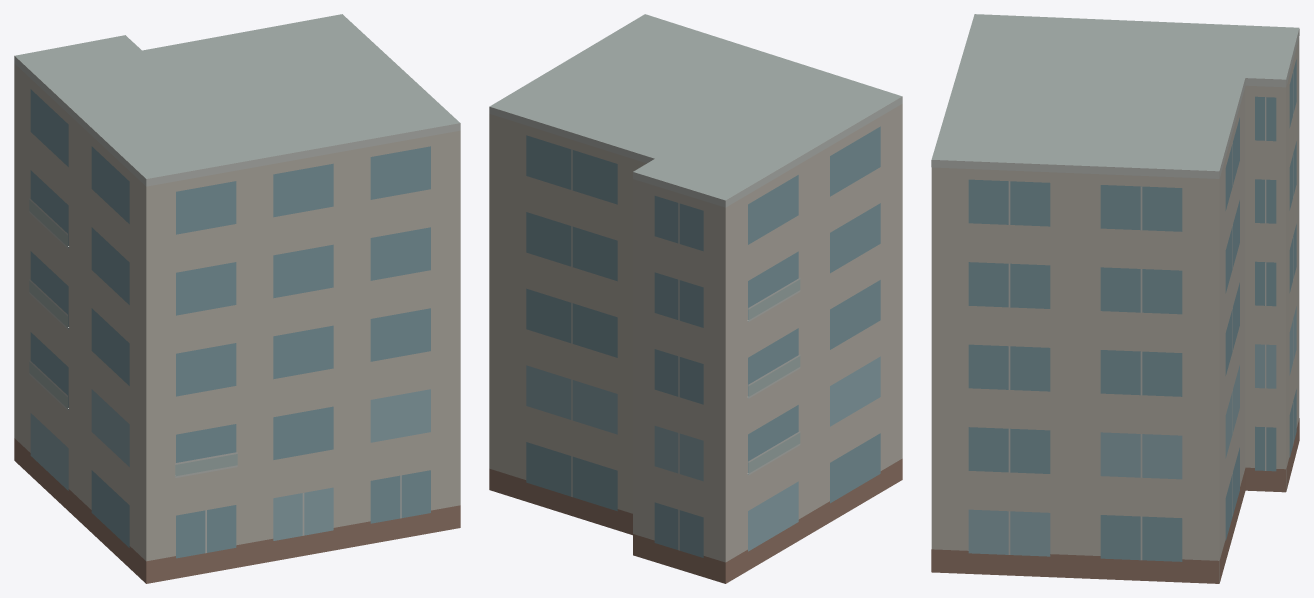
File: survey-upis-33032366.glb
3 views of the same model, side by side, from view 1: azimuth 30°, elevation 25°; view 2: azimuth 150°, elevation 25°; view 3: azimuth 270°, elevation 25° (orthographic). The views are drawn at different scales.
Parts seen in each view (by area): view 1: survey-upis-33032366.tmp; view 2: survey-upis-33032366.tmp; view 3: survey-upis-33032366.tmp.
Part boxes in pixels (left/top/right/bottom): survey-upis-33032366.tmp: left=14, top=14, right=460, bottom=583; survey-upis-33032366.tmp: left=489, top=14, right=902, bottom=583; survey-upis-33032366.tmp: left=931, top=14, right=1299, bottom=583.
Bounding box in the file's own units: 10.72 × 13.1 × 10.6.
